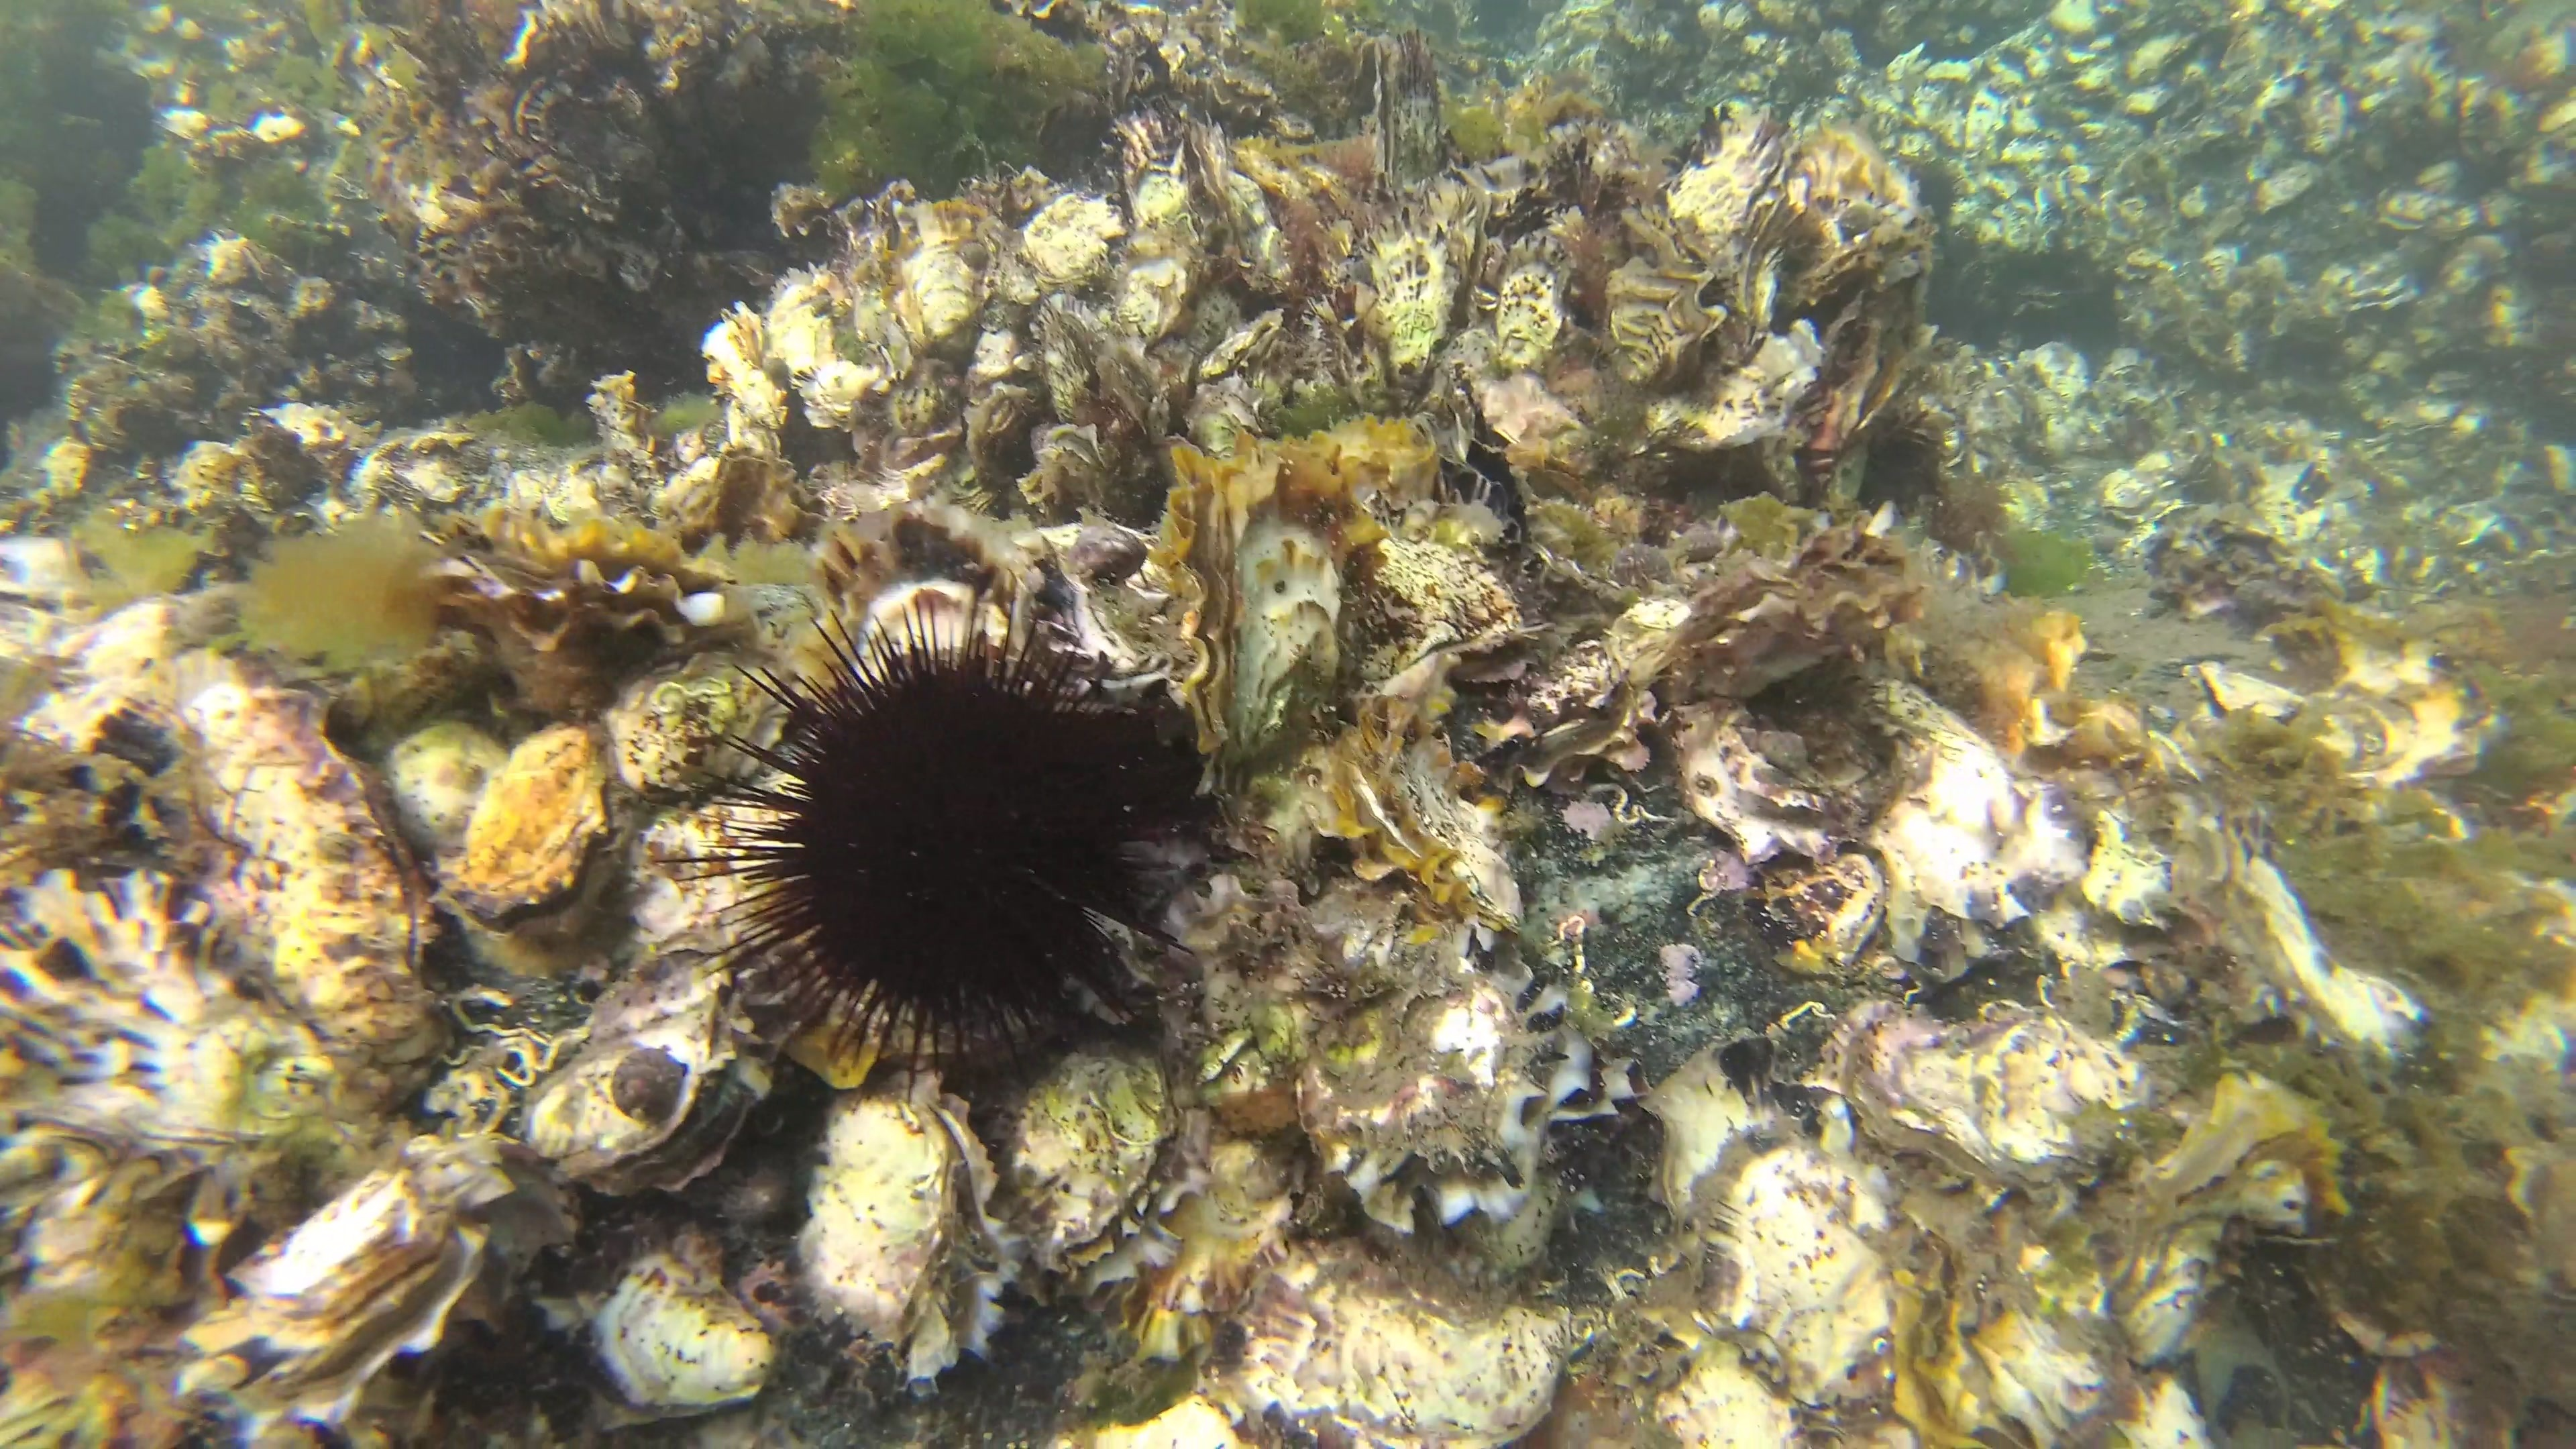echinus: (646, 571, 1277, 1108), (1845, 421, 1946, 517)
